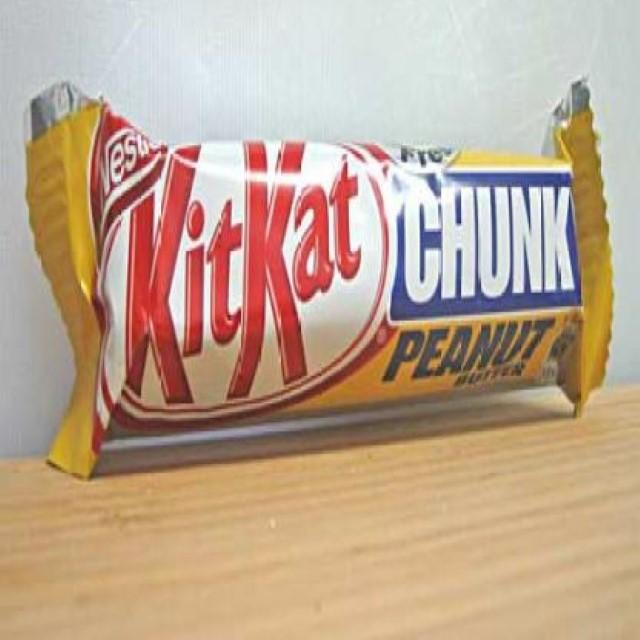kitkat_chocolate: (55, 117, 620, 430)
